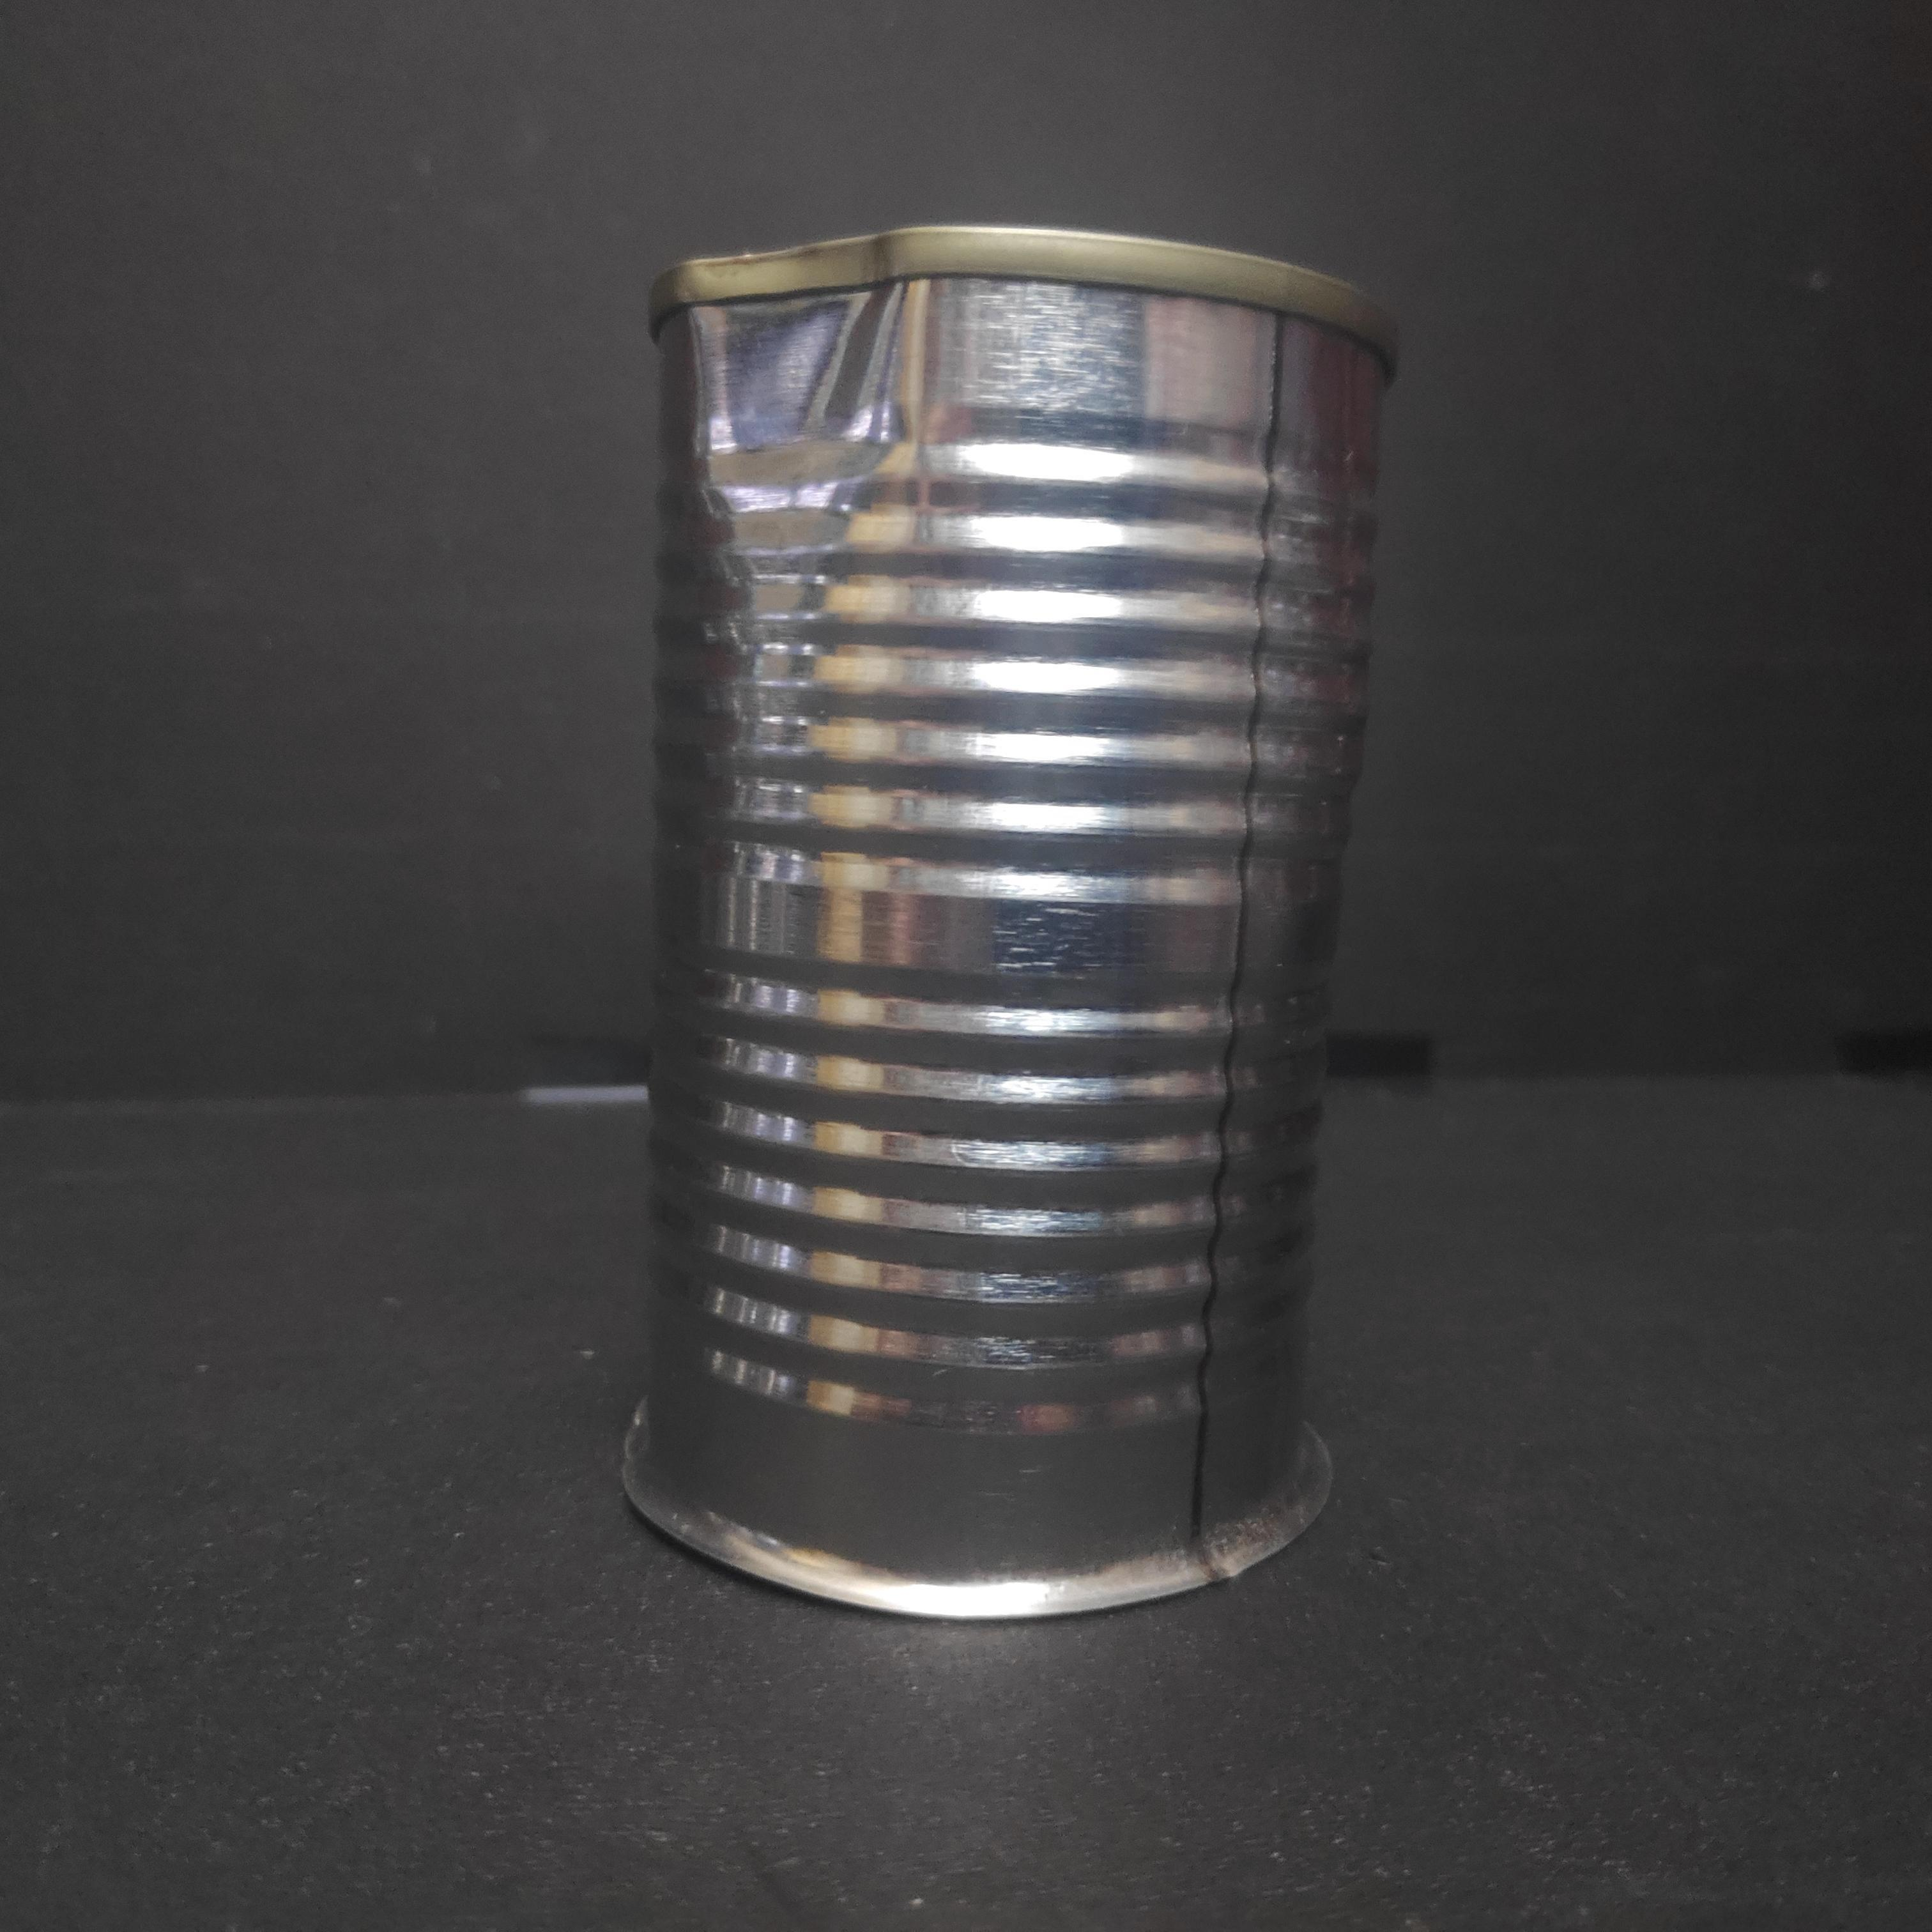Dented: (591, 179, 1424, 1665)
